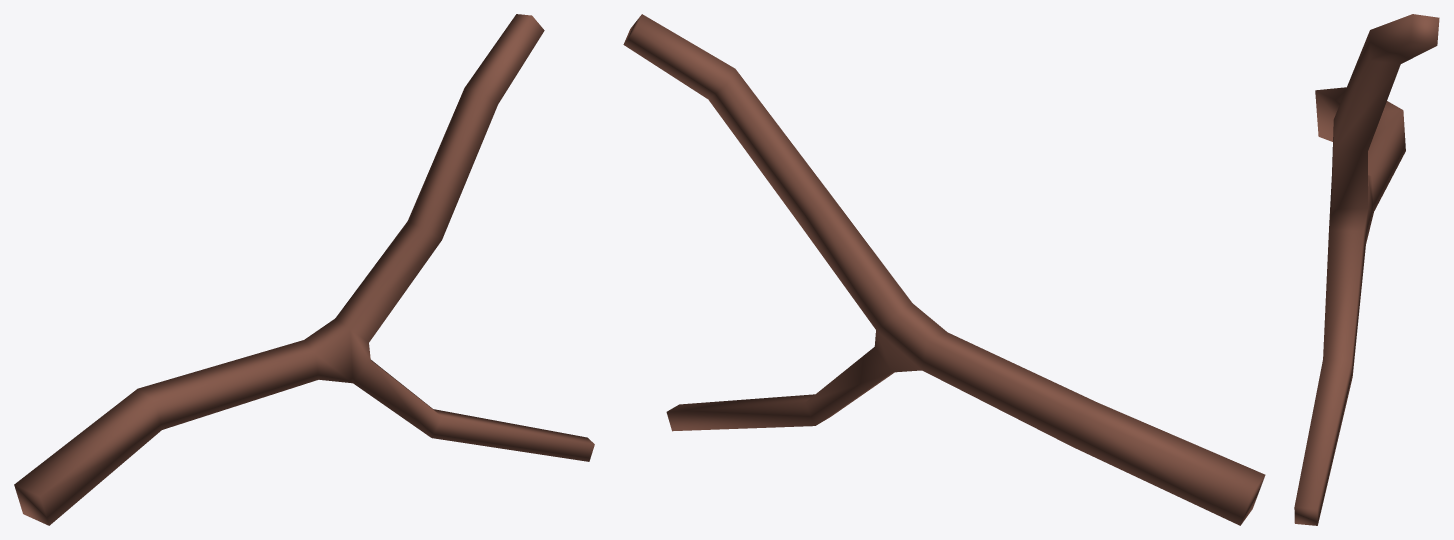
The model's file is Stick_DarkBrown_6.fbx.
The picture shows the model from 3 angles, left to right: view 1: azimuth 30°, elevation 25°; view 2: azimuth 150°, elevation 25°; view 3: azimuth 270°, elevation 25°; orthographic projection. The views are drawn at different scales.
Visible parts, largest first — view 1: Stick_DarkBrown_6; view 2: Stick_DarkBrown_6; view 3: Stick_DarkBrown_6.
Part boxes in pixels (box(x1,y1,x2,y2)): Stick_DarkBrown_6: box(14, 14, 594, 525); Stick_DarkBrown_6: box(623, 14, 1265, 525); Stick_DarkBrown_6: box(1294, 14, 1439, 525).
Size of the model in its own units: 216 by 154 by 40.
